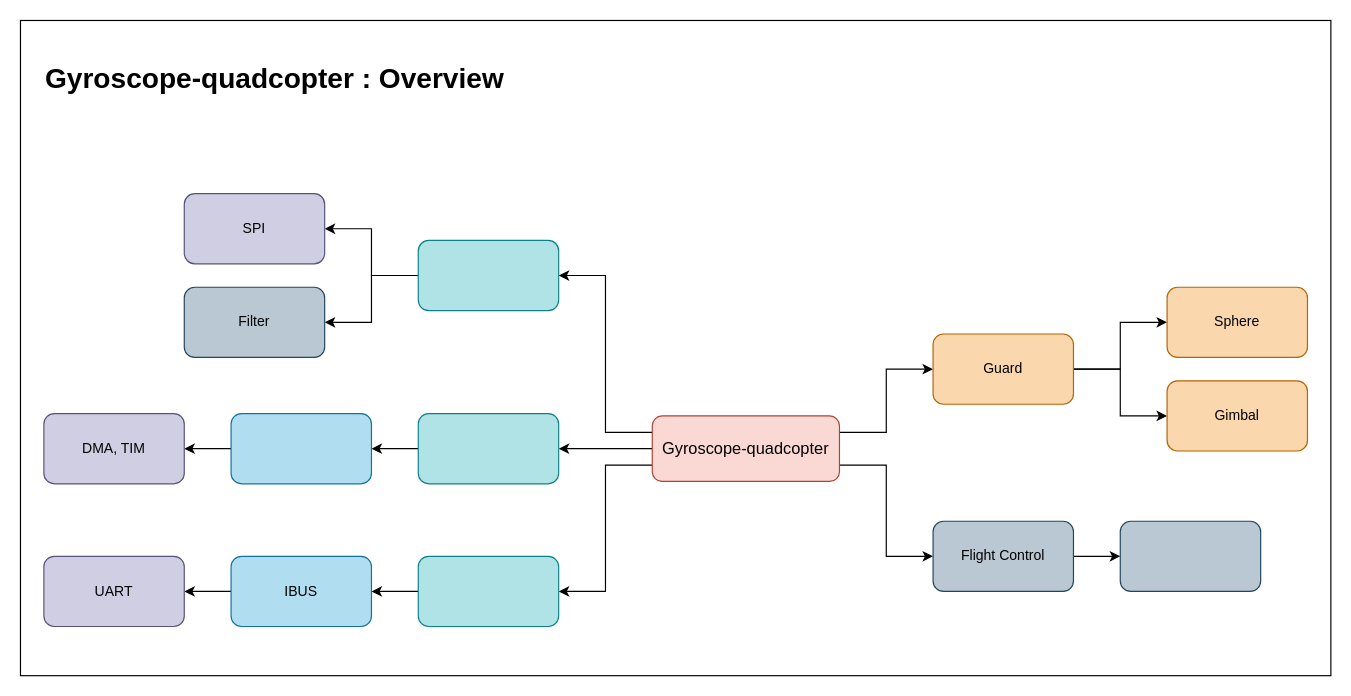
Some shapes in this 1351 by 696 pixel diagram are drawn without their labels. Here are the shapes that lost their labels. From the top down, the centre of each, then its label:
At point (488, 275): "IMU".
At point (300, 448): "DSHOT".
At point (488, 448): "Motor".
At point (1190, 555): "PID".
At point (488, 591): "RC control".
